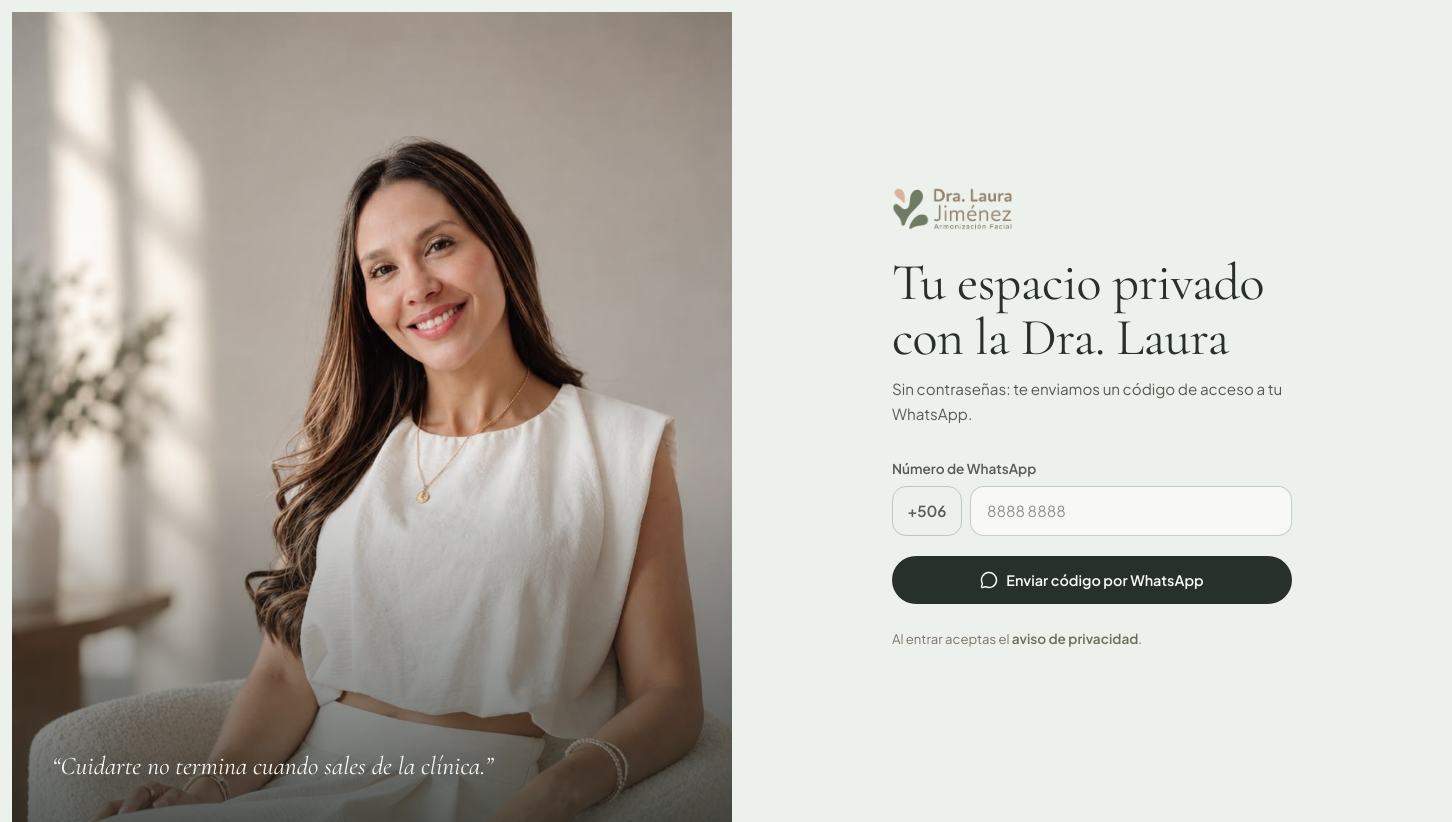
Test: <PortalAccess /> (acceso con código de WhatsApp) › pide el número y valida que tenga 8 dígitos
The image size is (1452, 822).
Type "123" into the field labelled "Número de WhatsApp". click: (1131, 511)
box: [970,486,1292,536]
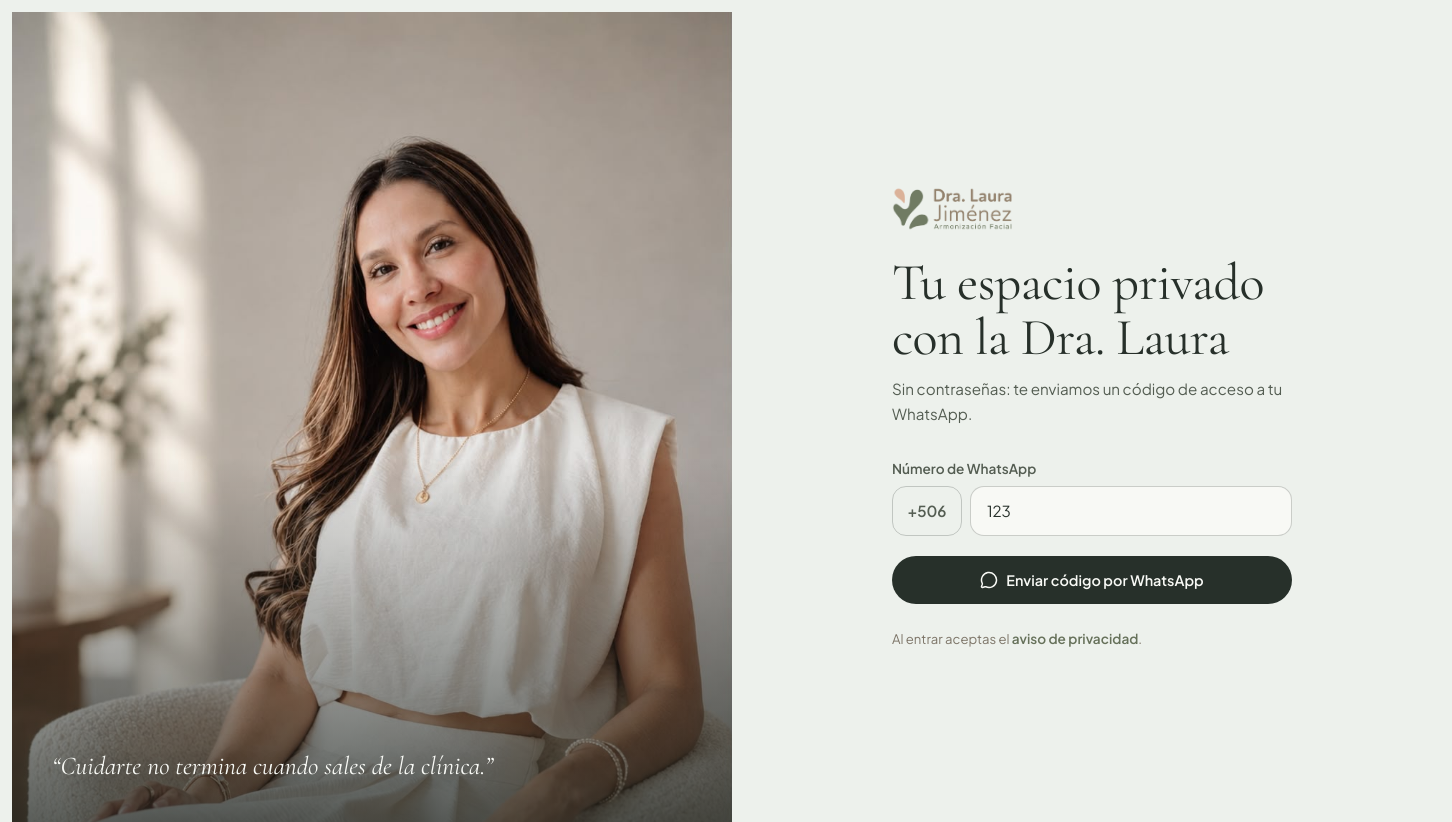
Click the button "Enviar código por WhatsApp". click: (1092, 580)
box: [892,556,1292,604]
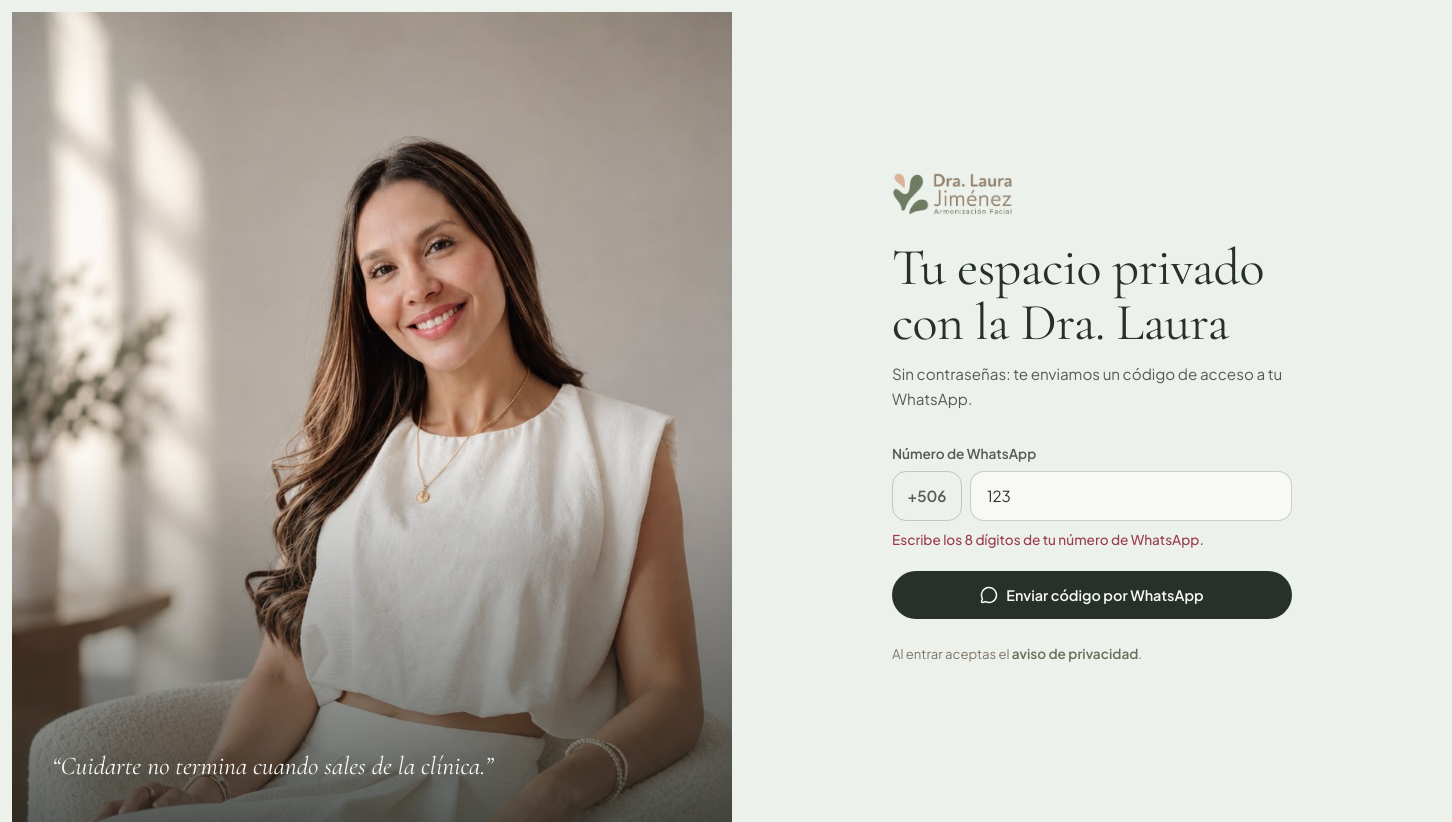
Check: the message shows "8 dígitos", box [892,531,1204,548]
